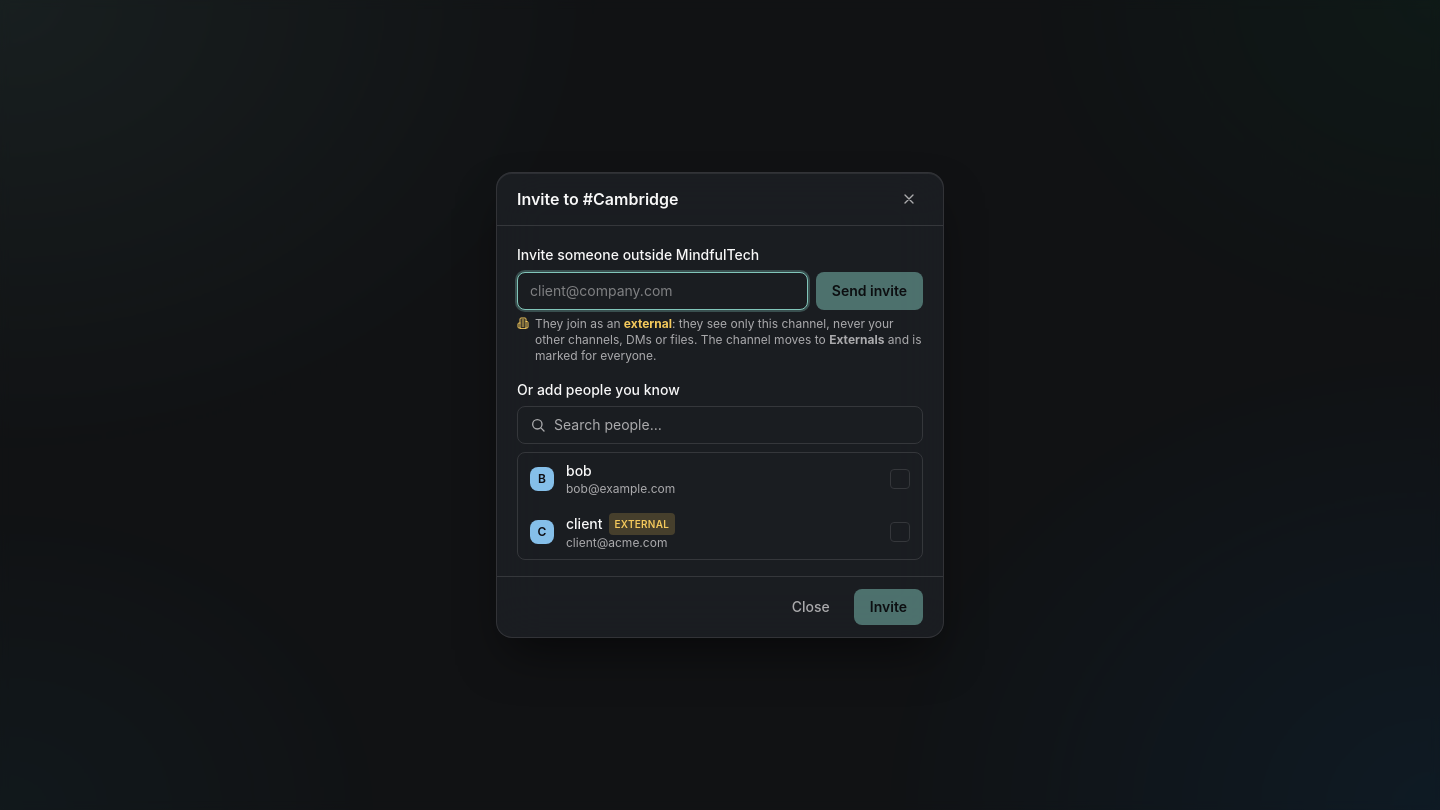
Test case: inviting someone from outside MindfulTech › marks externals in the list and warns before adding one
expect the text "External" is shown: met, box [608,513,675,535]
Click the button "C client External client@acme.com".
click(584, 524)  # box [518,505,922,559]
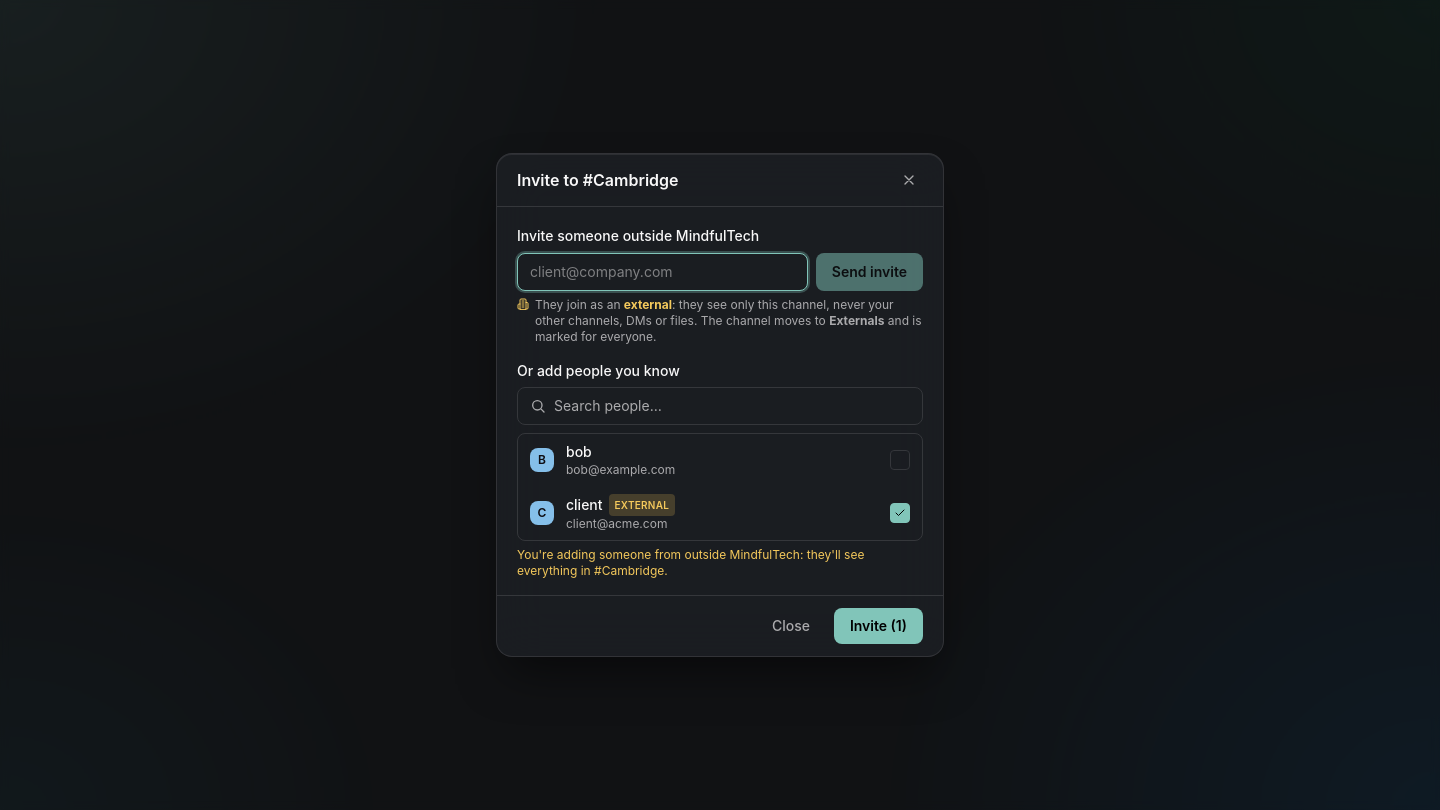
expect the text "outside MindfulTech" is shown: met, box [517,547,864,578]
